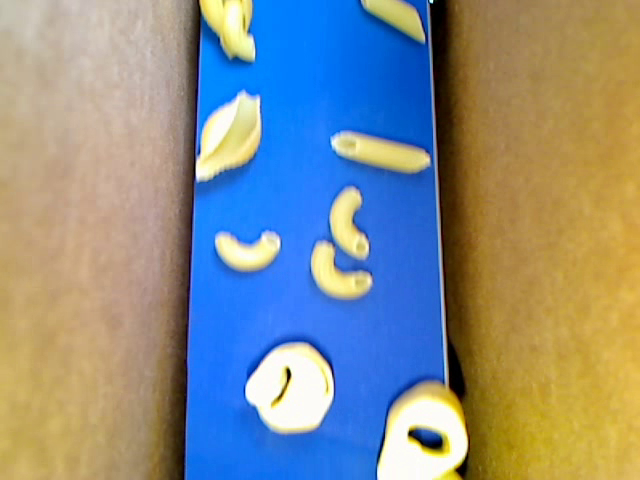elbow: (309, 240, 371, 300), (329, 186, 371, 260), (214, 228, 281, 274), (221, 1, 256, 62)
penne: (329, 129, 431, 175), (357, 1, 425, 45)
shell: (195, 89, 262, 183), (198, 1, 254, 63)
tortellini: (377, 382, 468, 479), (242, 340, 334, 435)
